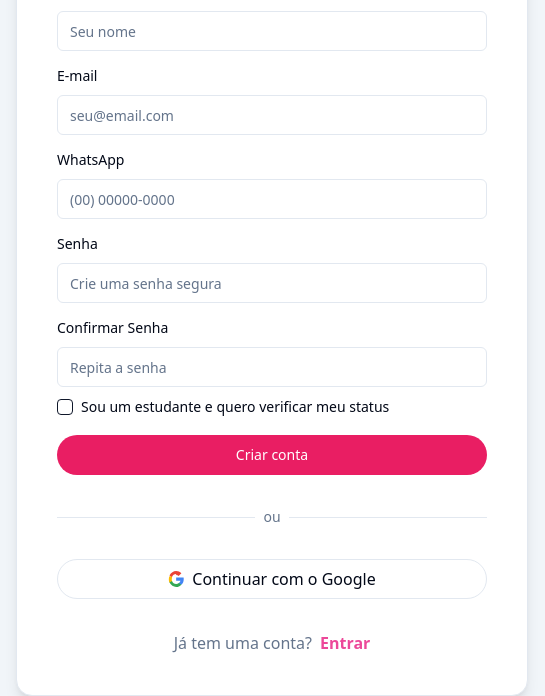
Test: CreatorSignUp › Navigation Links › has working "Entrar" link in signup form
(page scrolled)
Click the text "Entrar" at (345, 643), box left=320, top=631, right=370, bottom=655
(page scrolled)
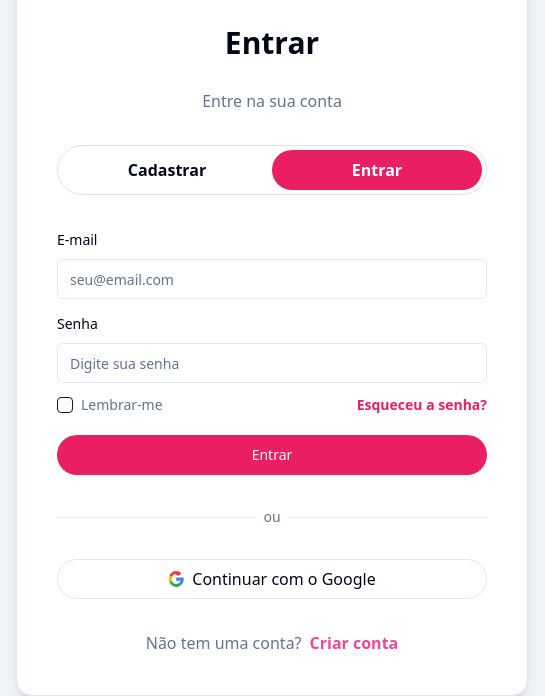
Result: the text "Entre na sua conta" is shown at left=202, top=89, right=342, bottom=113
